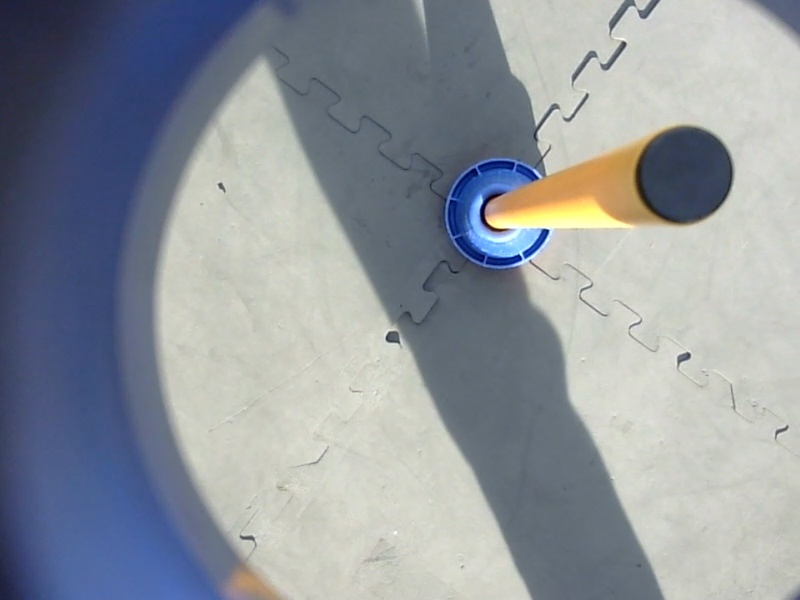tip: (627, 120, 741, 231)
